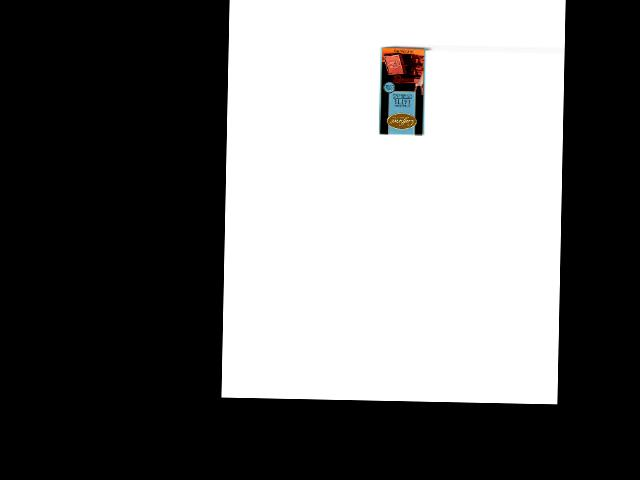chocolate: (377, 46, 427, 136)
